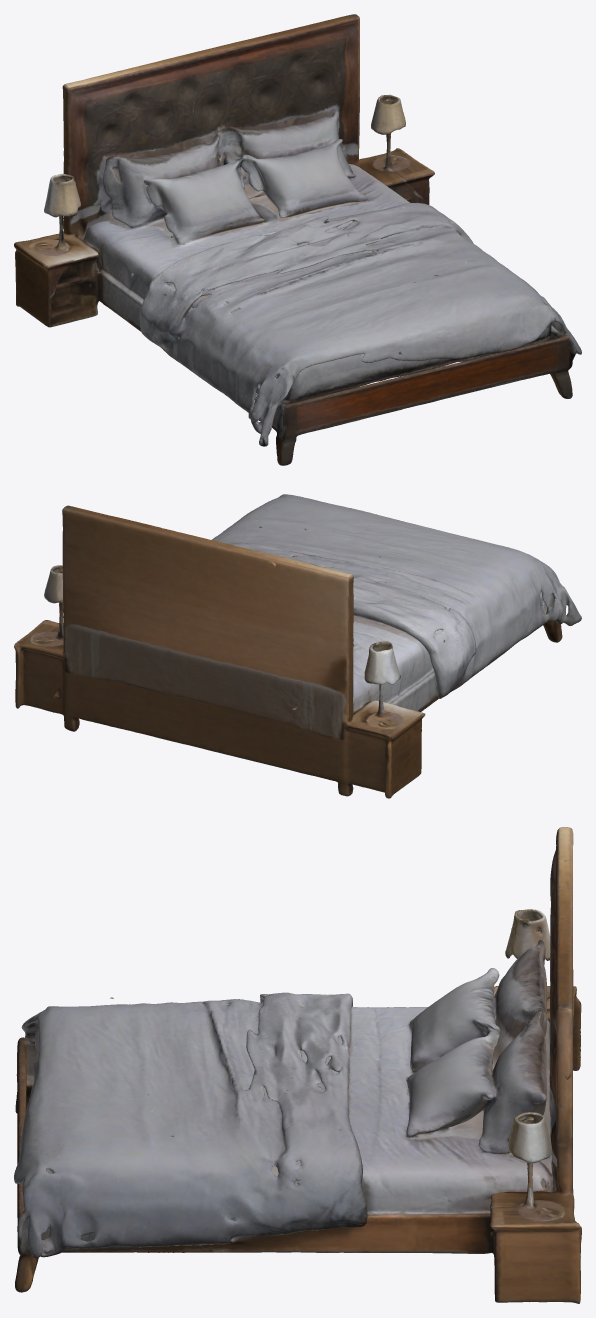
File: Bed.glb
3 views of the same model, one above another, from view 1: azimuth 30°, elevation 25°; view 2: azimuth 150°, elevation 25°; view 3: azimuth 270°, elevation 25° (orthographic). The views are drawn at different scales.
Bounding box in the file's own units: 1.99 × 1.11 × 1.98.
Materials: 1 (1 with a texture image).
